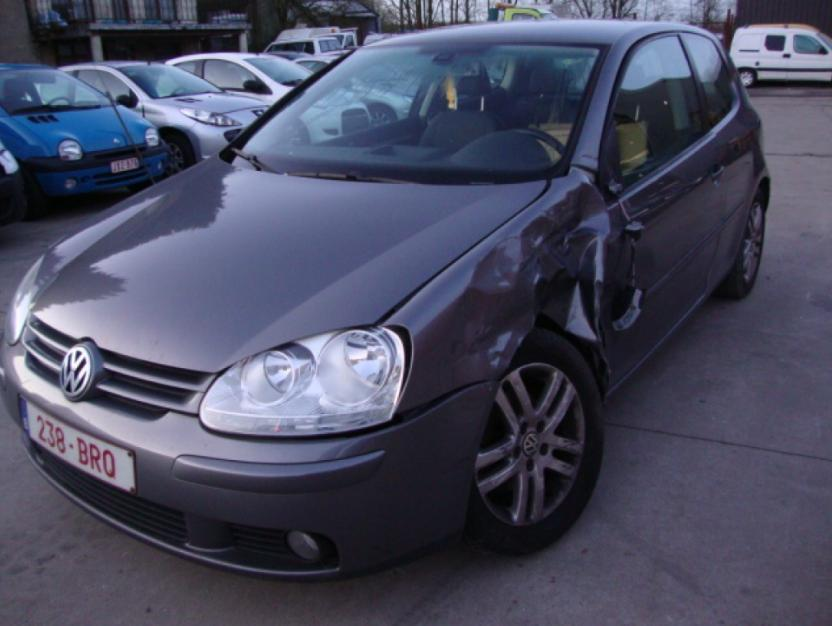Back-wheel: (721, 193, 764, 297)
Back-window: (682, 33, 732, 127)
Fender: (379, 169, 636, 416)
Front-bumper: (1, 332, 496, 580)
Front-door: (601, 32, 727, 385)
Front-wheel: (466, 332, 603, 558)
Front-window: (609, 36, 701, 191)
Grille: (24, 319, 210, 417)
Headlight: (200, 328, 408, 438), (5, 256, 43, 343)
Hood: (29, 154, 548, 371)
License-plate: (20, 398, 135, 491)
Quarter-panel: (698, 84, 772, 306)
Roof: (369, 18, 706, 45)
Windshield: (224, 39, 607, 185)
